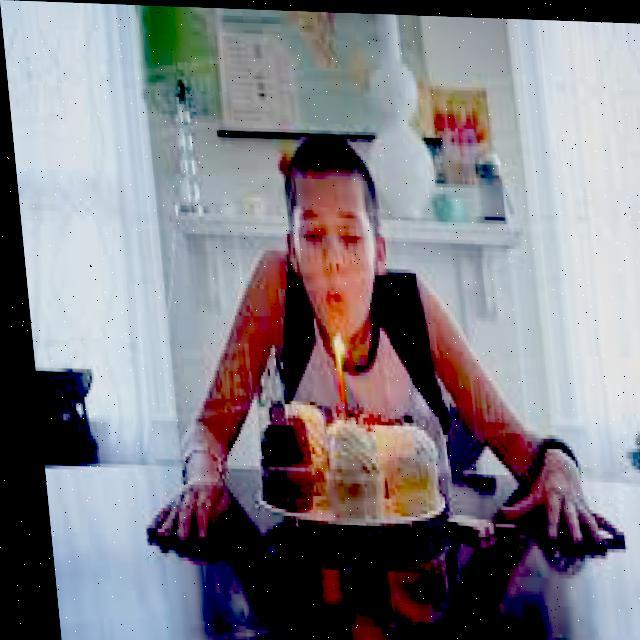Fire: (320, 320, 340, 359)
